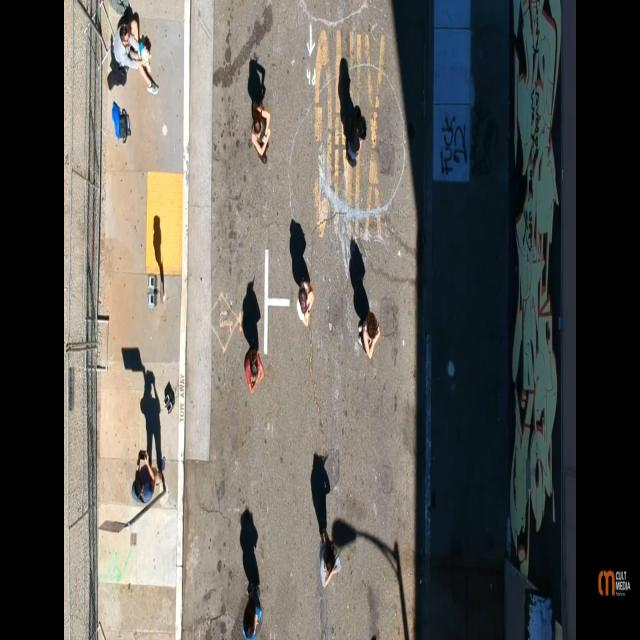humans: (110, 16, 168, 102), (130, 450, 168, 518), (251, 98, 273, 170), (320, 534, 344, 596), (356, 308, 382, 362), (242, 348, 268, 399), (346, 110, 366, 170), (240, 596, 264, 640), (296, 278, 315, 331)
